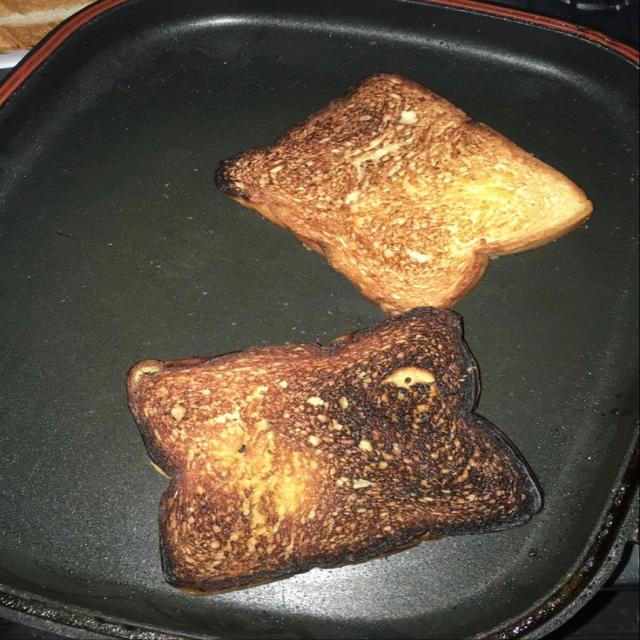toast bread: (127, 308, 540, 594), (216, 74, 591, 314)
